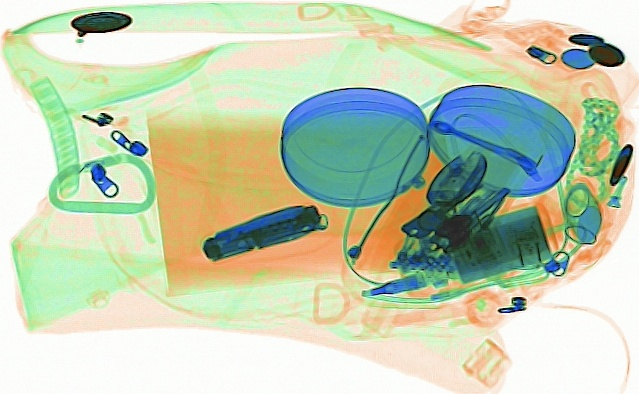knife: (200, 202, 330, 263)
